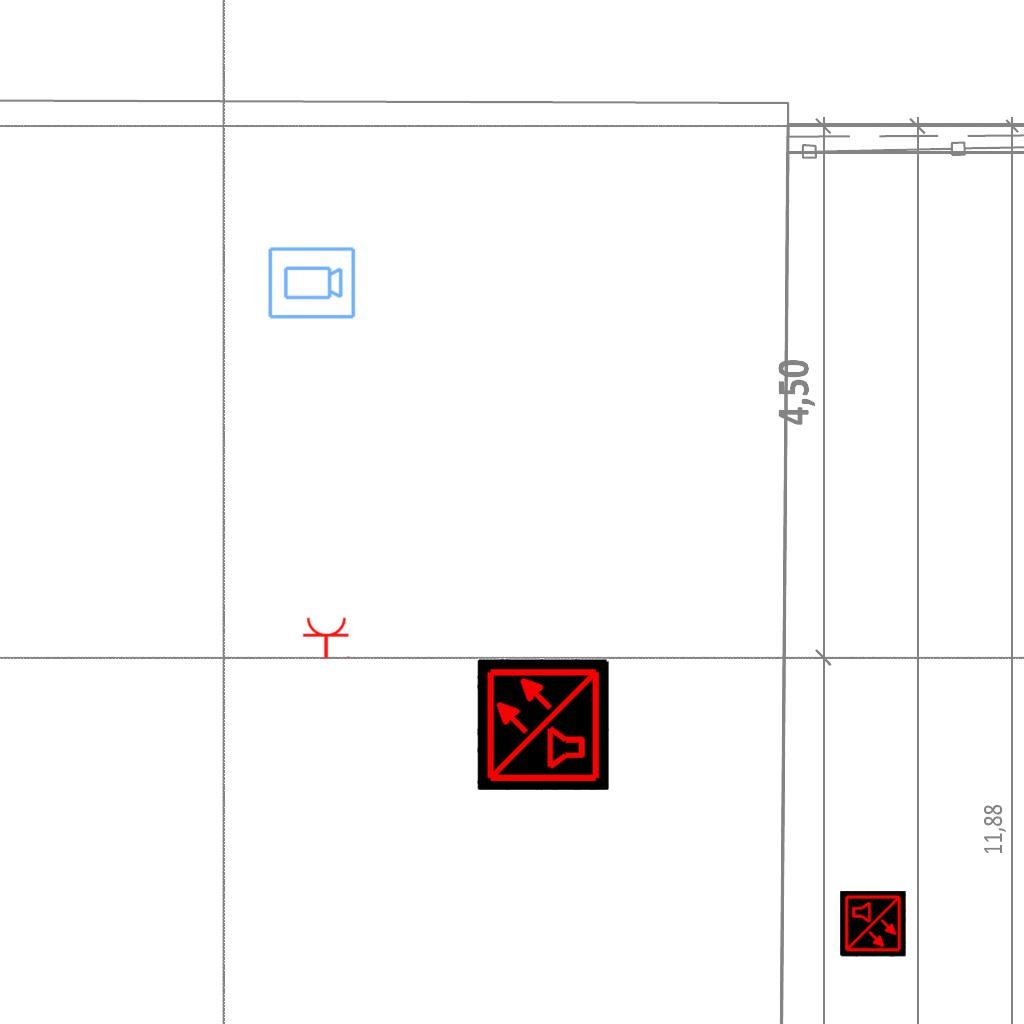KFO_Kamera_mit_Festobjektiv: (266, 245, 357, 322)
OKW_Multisensormelder_(Kombination_optischer_Rauch-Kahlenmonoxid_Waerme-Melder): (477, 658, 609, 790), (840, 891, 906, 957)
Schukosteckdose_einfach: (302, 616, 352, 659)
